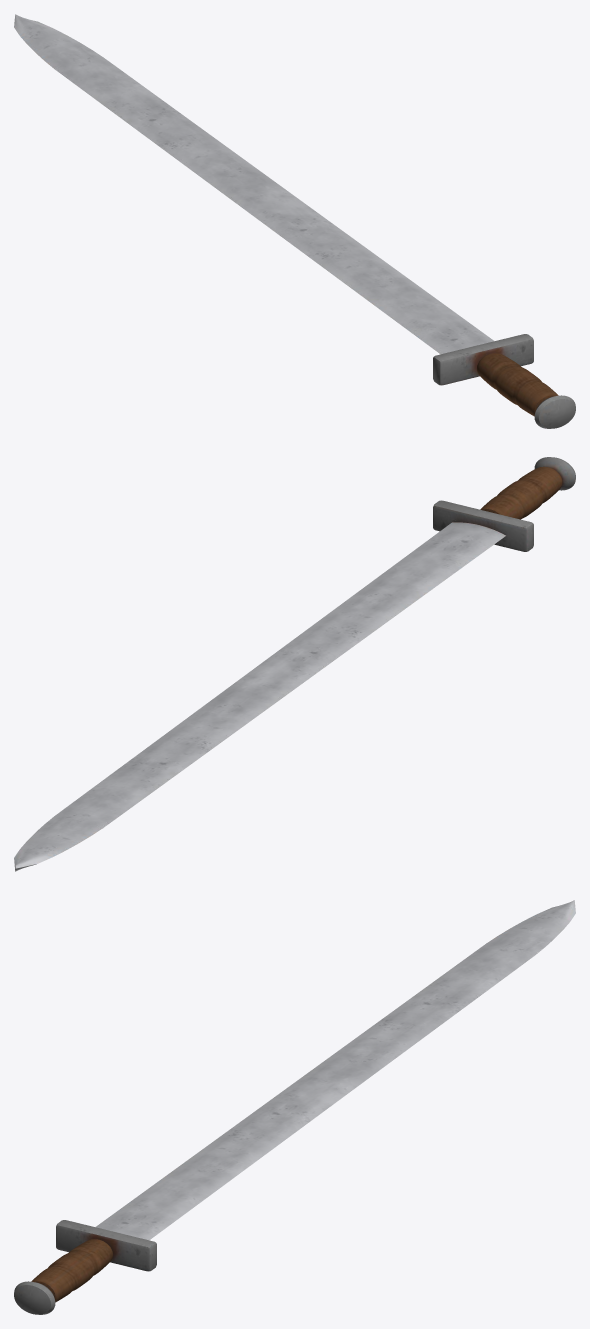
Rendered from goth_pattern_spatha.glb.
3 views of the same model, one above another, from view 1: azimuth 30°, elevation 25°; view 2: azimuth 150°, elevation 25°; view 3: azimuth 330°, elevation 25° (orthographic).
Parts seen in each view (by area): view 1: goth_pattern_spatha; view 2: goth_pattern_spatha; view 3: goth_pattern_spatha.
Boxes of the visible parts, x1,y1,x2,y2 form: goth_pattern_spatha: (14,14,575,428); goth_pattern_spatha: (14,457,575,871); goth_pattern_spatha: (14,900,575,1314).
Bounding box in the file's own units: 0.0915 × 0.0292 × 0.9019.
1 material, 1 textured.
